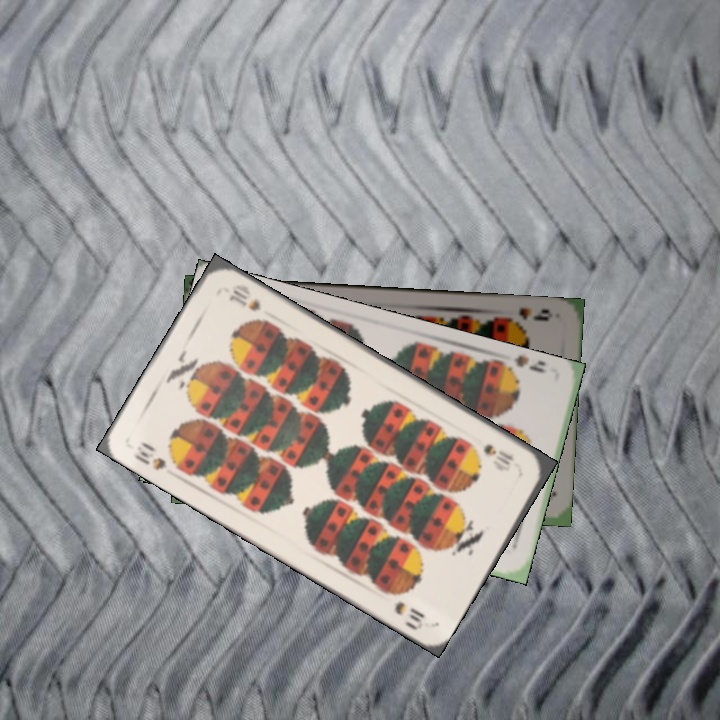S10: (130, 437, 169, 474), (479, 439, 517, 468)
S9: (498, 304, 552, 329), (497, 357, 550, 382)
